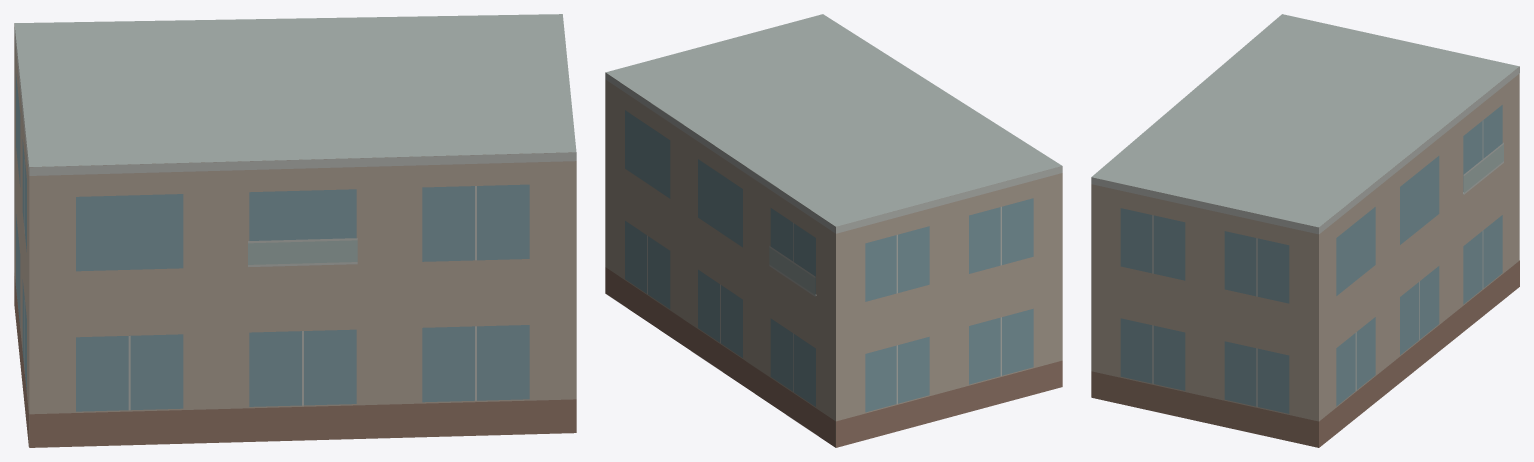
Rendered from survey-upis-32633676.glb.
The picture shows the model from 3 angles, left to right: view 1: azimuth 30°, elevation 25°; view 2: azimuth 150°, elevation 25°; view 3: azimuth 270°, elevation 25°; orthographic projection. The views are drawn at different scales.
Visible parts, largest first — view 1: survey-upis-32633676.tmp; view 2: survey-upis-32633676.tmp; view 3: survey-upis-32633676.tmp.
Part boxes in pixels (x1=…): survey-upis-32633676.tmp: x1=14, y1=14, x2=576, y2=447; survey-upis-32633676.tmp: x1=605, y1=14, x2=1062, y2=447; survey-upis-32633676.tmp: x1=1091, y1=14, x2=1519, y2=447.
Bounding box in the file's own units: 16 × 7.7 × 13.57.
